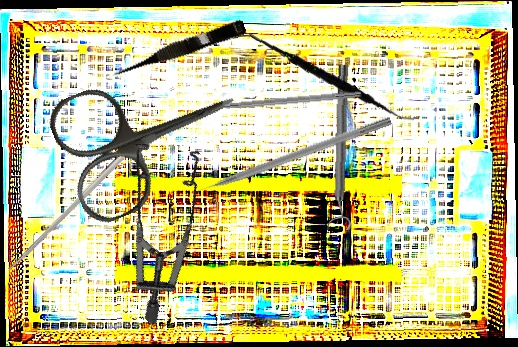Fixation Ring: (325, 64, 358, 231)
Hook Surgical: (199, 88, 363, 113)
Iris Scissors: (42, 40, 259, 230)
Micro Scissor: (108, 15, 248, 82)
Pusher: (182, 113, 393, 201)
Scalpel Handle: (6, 129, 151, 273)
Spatula Surgical: (232, 20, 420, 137)
Speculum: (51, 116, 258, 327)
